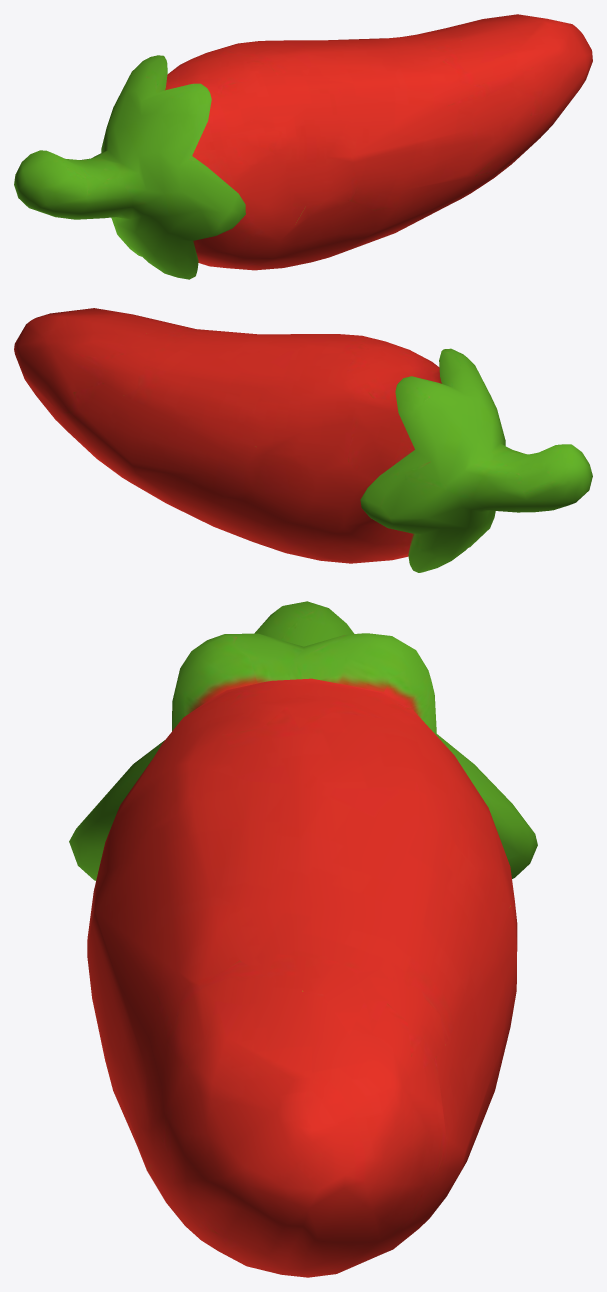
Rendered from pepper.glb.
3 renders of one model, top to bottom at view 1: azimuth 30°, elevation 25°; view 2: azimuth 150°, elevation 25°; view 3: azimuth 270°, elevation 25°, orthographic. The views are drawn at different scales.
Visible parts, largest first — view 1: tripo_node_9ae9eb88-2fa9-424a-9609-65e6df03d9c5; view 2: tripo_node_9ae9eb88-2fa9-424a-9609-65e6df03d9c5; view 3: tripo_node_9ae9eb88-2fa9-424a-9609-65e6df03d9c5.
Boxes of the visible parts, box(x1,y1,x2,y2) form: tripo_node_9ae9eb88-2fa9-424a-9609-65e6df03d9c5: box(14, 14, 592, 279); tripo_node_9ae9eb88-2fa9-424a-9609-65e6df03d9c5: box(14, 308, 592, 572); tripo_node_9ae9eb88-2fa9-424a-9609-65e6df03d9c5: box(69, 601, 537, 1277).
Bounding box in the file's own units: 0.9797 × 0.3401 × 0.3508.
Materials: 1 (1 with a texture image).
